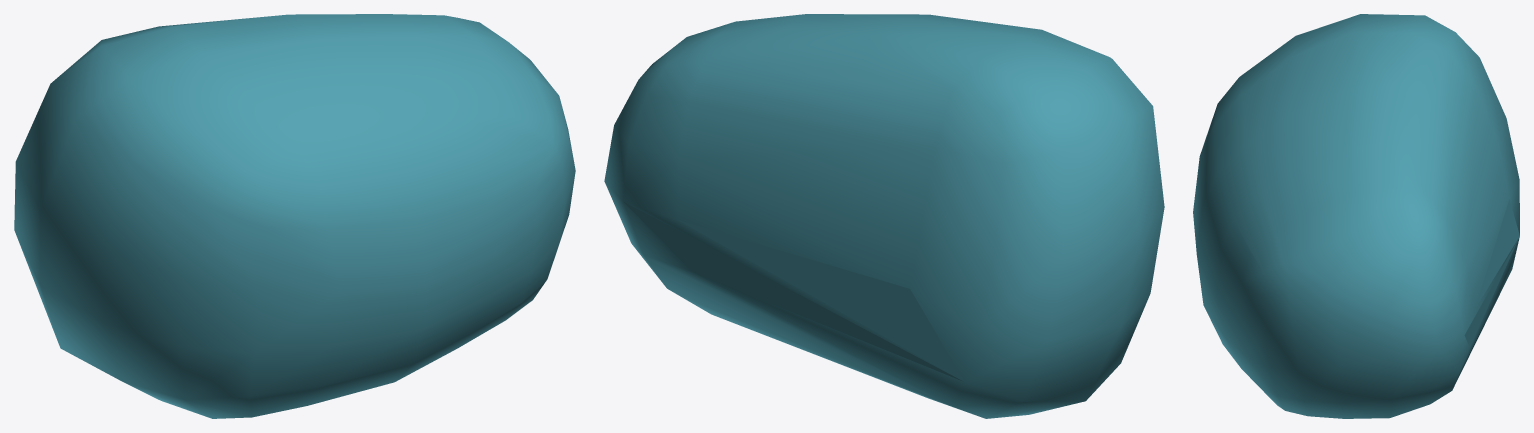
File: COL_Alpha_Surface_028_convex_hull.dae
The picture shows the model from 3 angles, left to right: view 1: azimuth 30°, elevation 25°; view 2: azimuth 150°, elevation 25°; view 3: azimuth 270°, elevation 25°; orthographic projection. The views are drawn at different scales.
Visible parts, largest first — view 1: COL_Alpha_Surface_028_convex_hull; view 2: COL_Alpha_Surface_028_convex_hull; view 3: COL_Alpha_Surface_028_convex_hull.
Part boxes in pixels (x1,y1,x2,y2): COL_Alpha_Surface_028_convex_hull: (14,14,575,418); COL_Alpha_Surface_028_convex_hull: (604,14,1164,418); COL_Alpha_Surface_028_convex_hull: (1193,14,1519,418).
Bounding box in the file's own units: 3.49 × 2.25 × 2.25.
